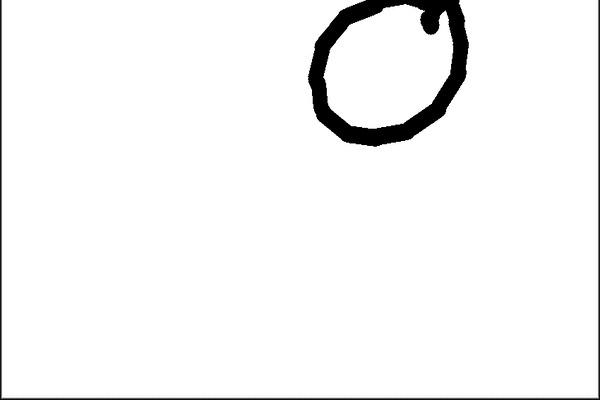O: (293, 0, 484, 158)
